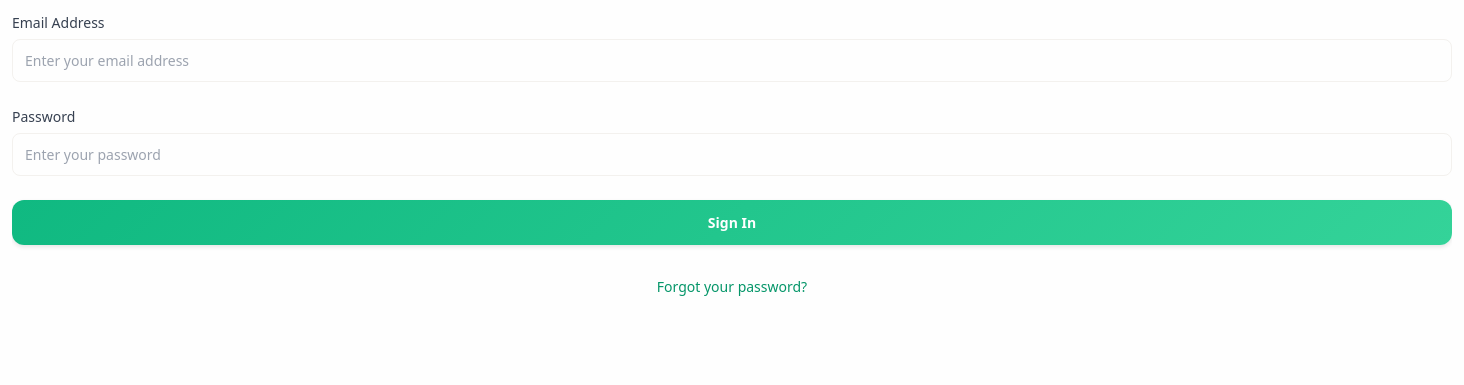
Scenario: Authentication Forms › SignInForm › Form Submission › handles network errors
// Fill and submit form
Step 1. Type "test@example.com" into the field labelled "Email Address" → (732, 60), box x1=12 y1=39 x2=1452 y2=82
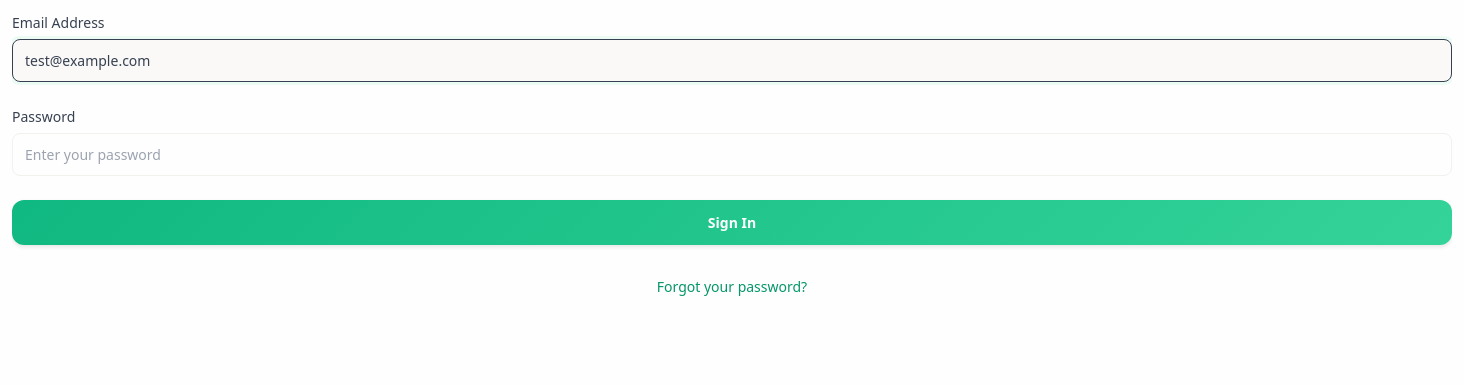
Step 2. Type "password123" into the password field labelled "Password" → (732, 154), box x1=12 y1=133 x2=1452 y2=176
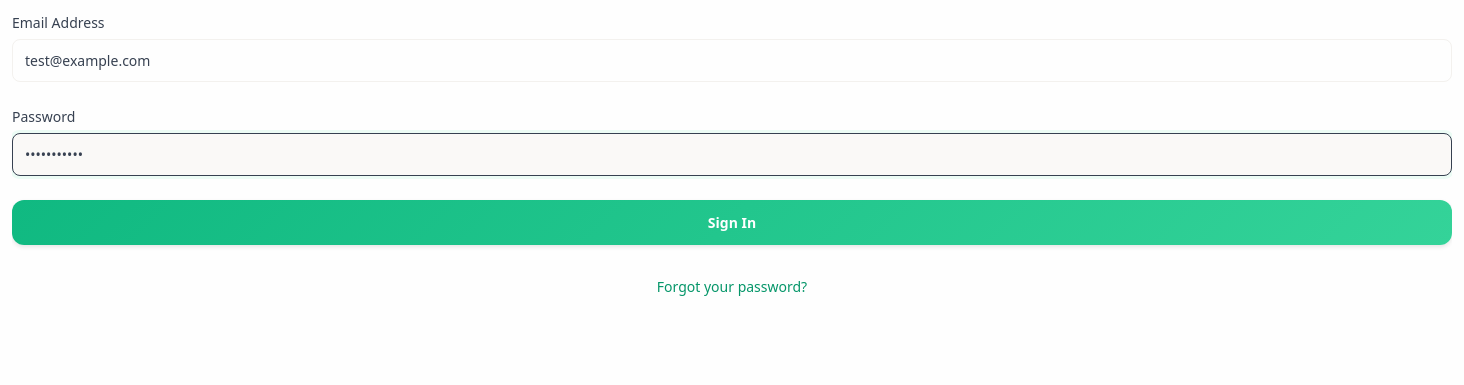
Step 3. Click the button "Sign In" → (732, 222), box x1=12 y1=200 x2=1452 y2=245
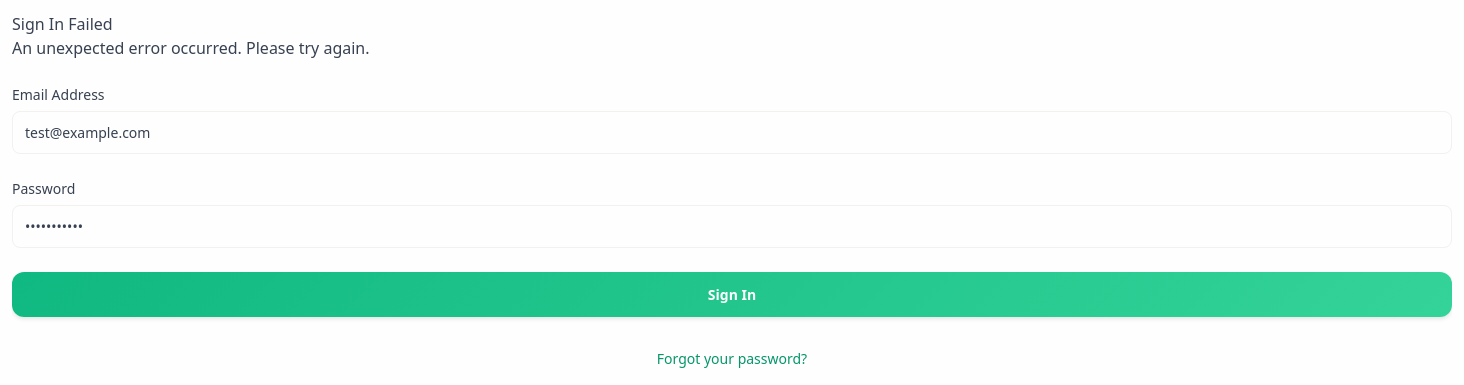
Expected: the list item "An unexpected error occurred. Please try again." is shown, x1=12 y1=37 x2=370 y2=59
